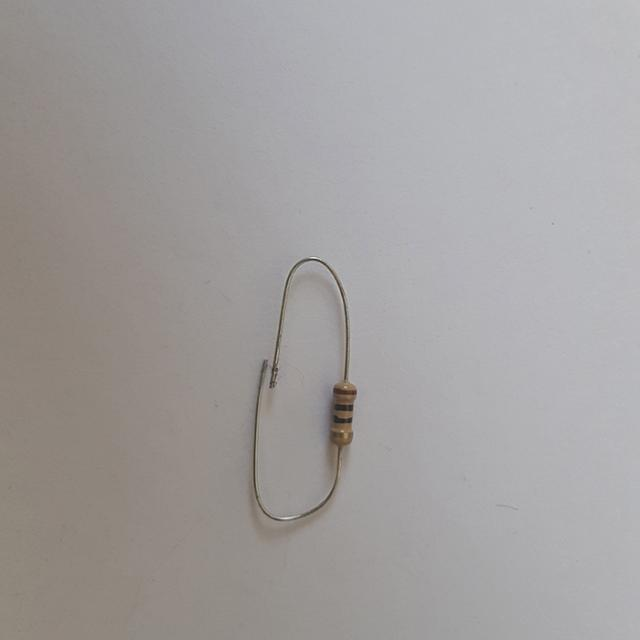black: (333, 417, 352, 423), (334, 404, 353, 410)
brown: (333, 389, 356, 395)
gold: (330, 431, 352, 436)
resistor: (313, 376, 373, 452)
